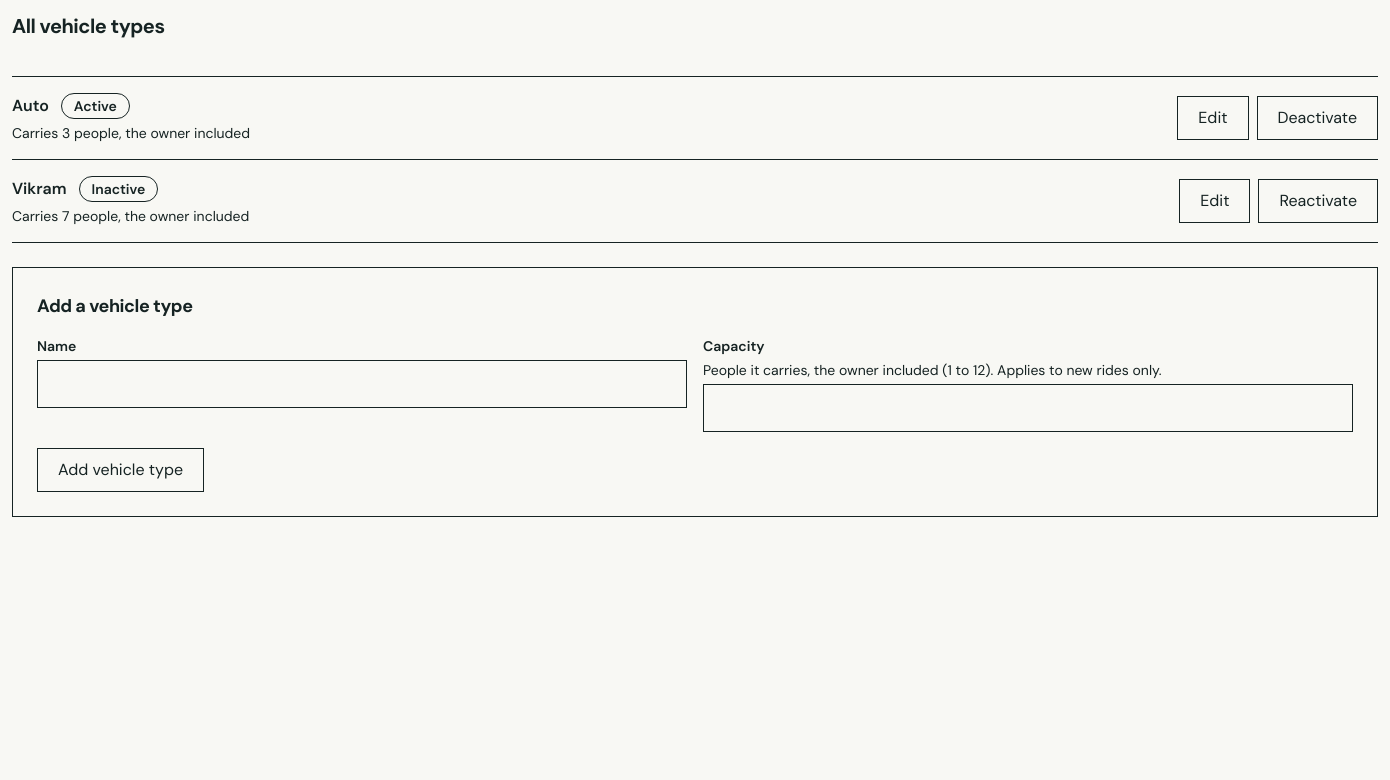
Scenario: VehicleTypesEditor (OA-FR-01 to 03, CS455-51) › keeps the admin's input on a conflict, shows the other change, and saves over it on purpose
Click the button with aria-label "Edit Auto" at {"x": 1213, "y": 118}, box x1=1177 y1=96 x2=1248 y2=140
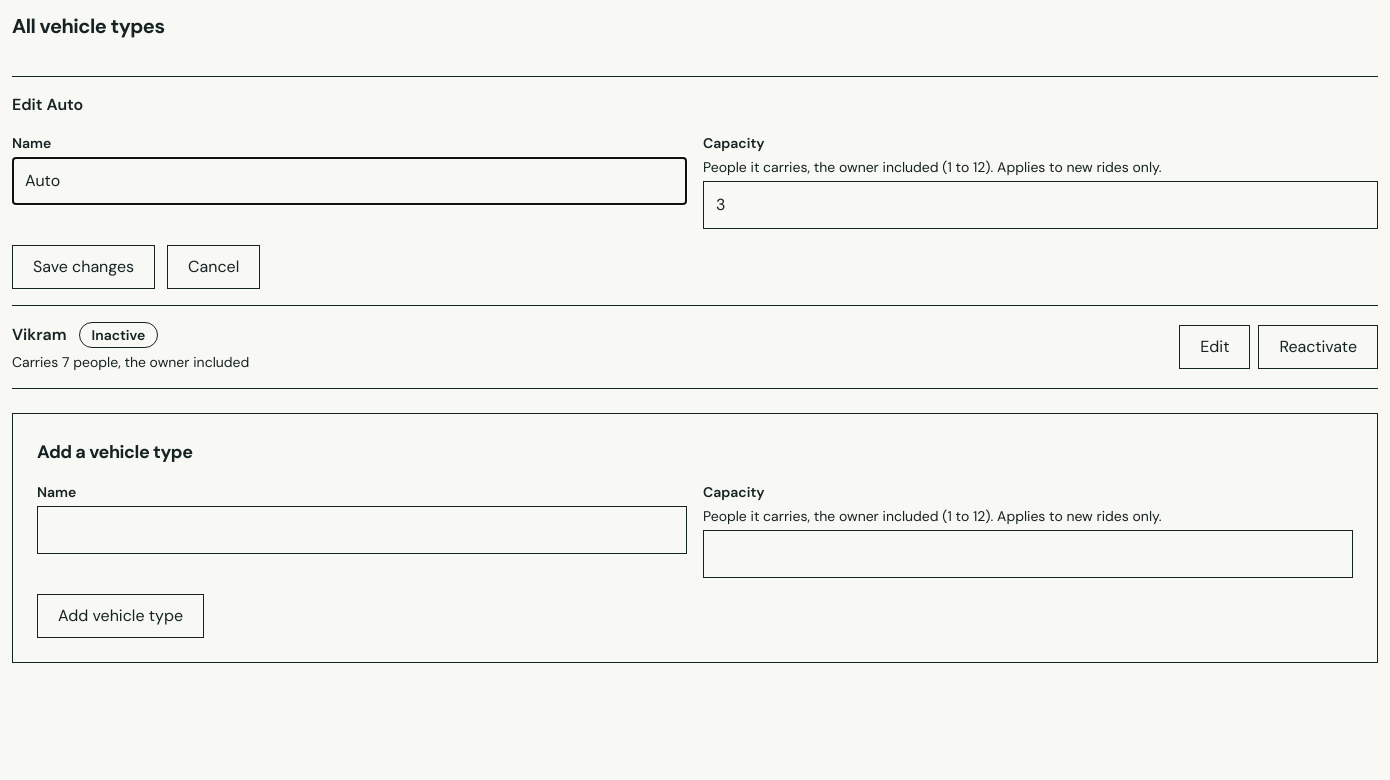
Replace the text in the field labelled "Name" below "Auto" with "Auto rickshaw" at {"x": 350, "y": 181}, box x1=12 y1=157 x2=687 y2=205
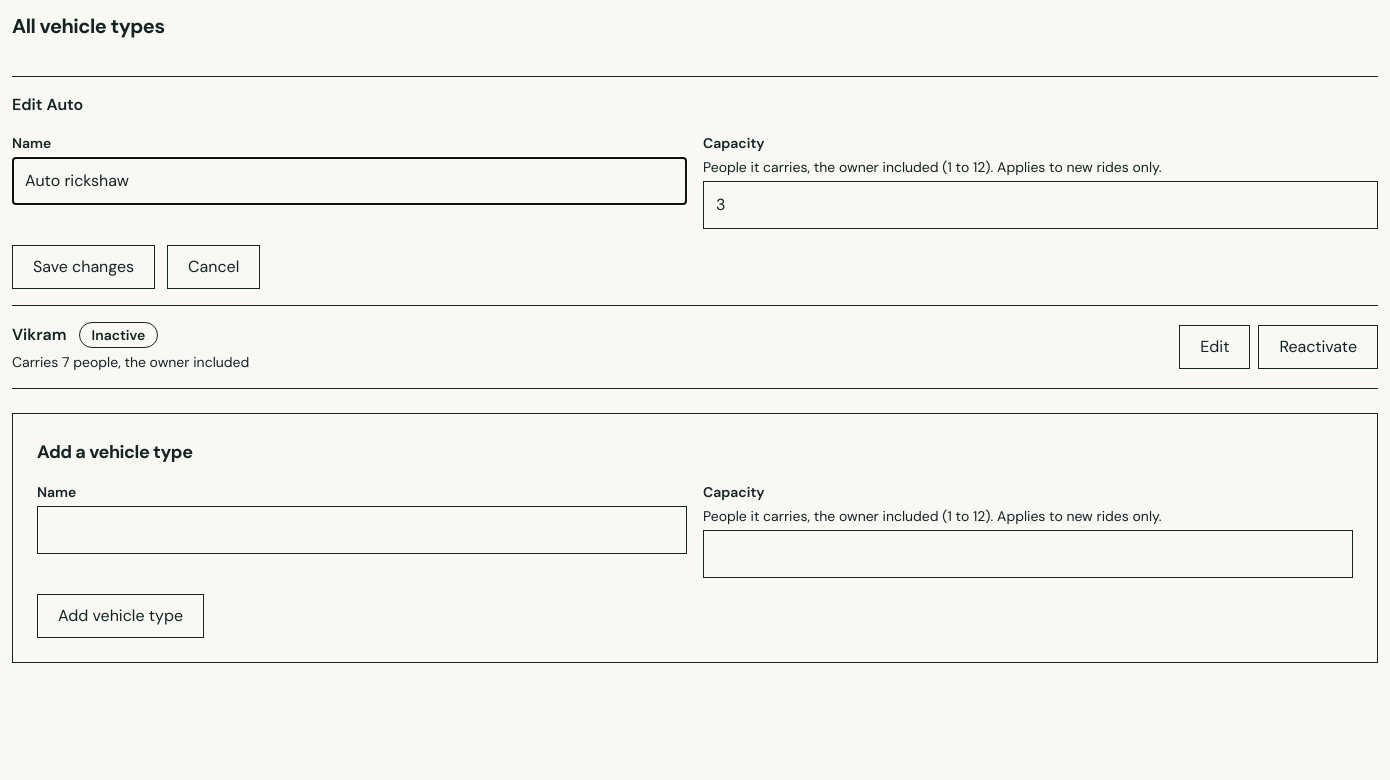
Click the button "Save changes" at {"x": 84, "y": 267}, box x1=12 y1=245 x2=155 y2=289
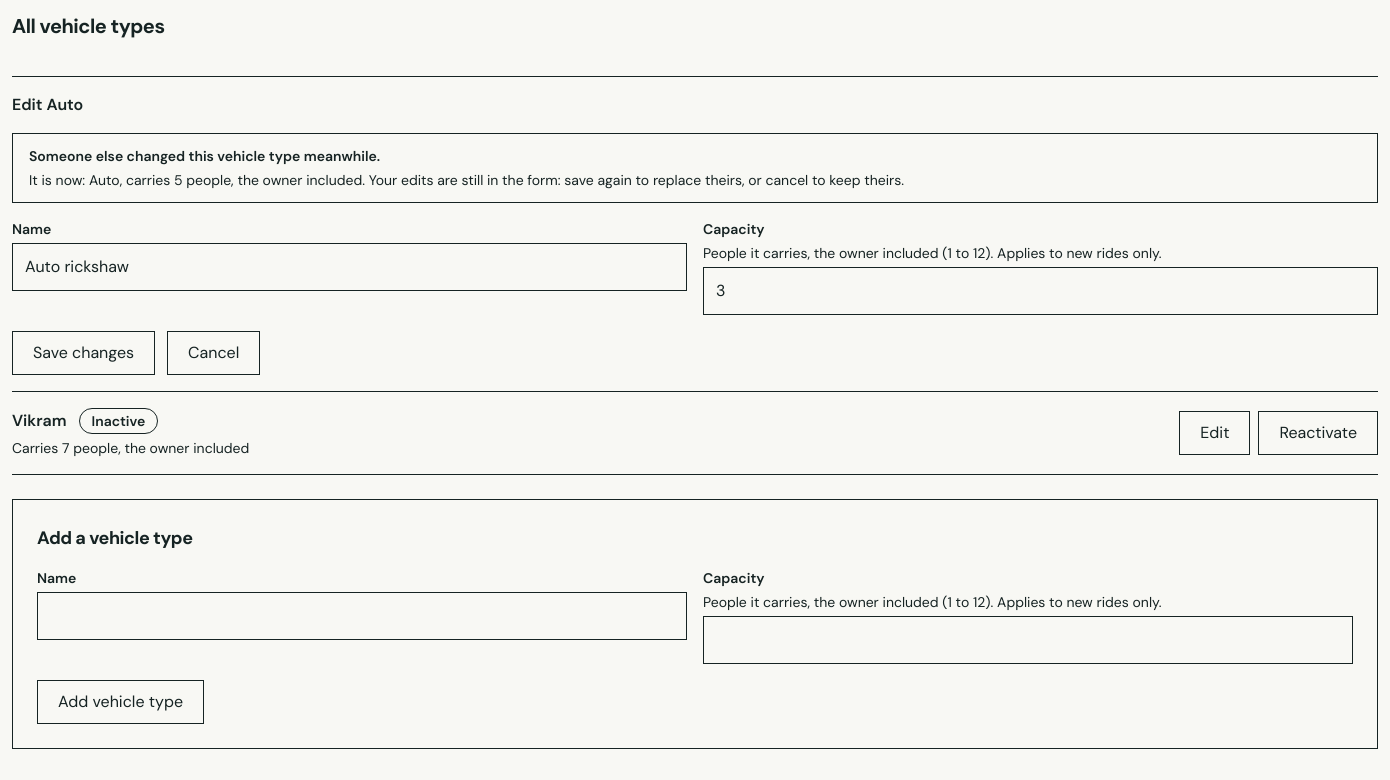
Check: the message that starts with "Someone else changed this" shows "Someone else changed this vehicle type meanwhile.", box x1=12 y1=133 x2=1378 y2=203
Check: the message that starts with "Someone else changed this" shows "It is now: Auto, carries 5 people, the owner included.", box x1=12 y1=133 x2=1378 y2=203
Click the button "Save changes" at {"x": 84, "y": 353}, box x1=12 y1=331 x2=155 y2=375
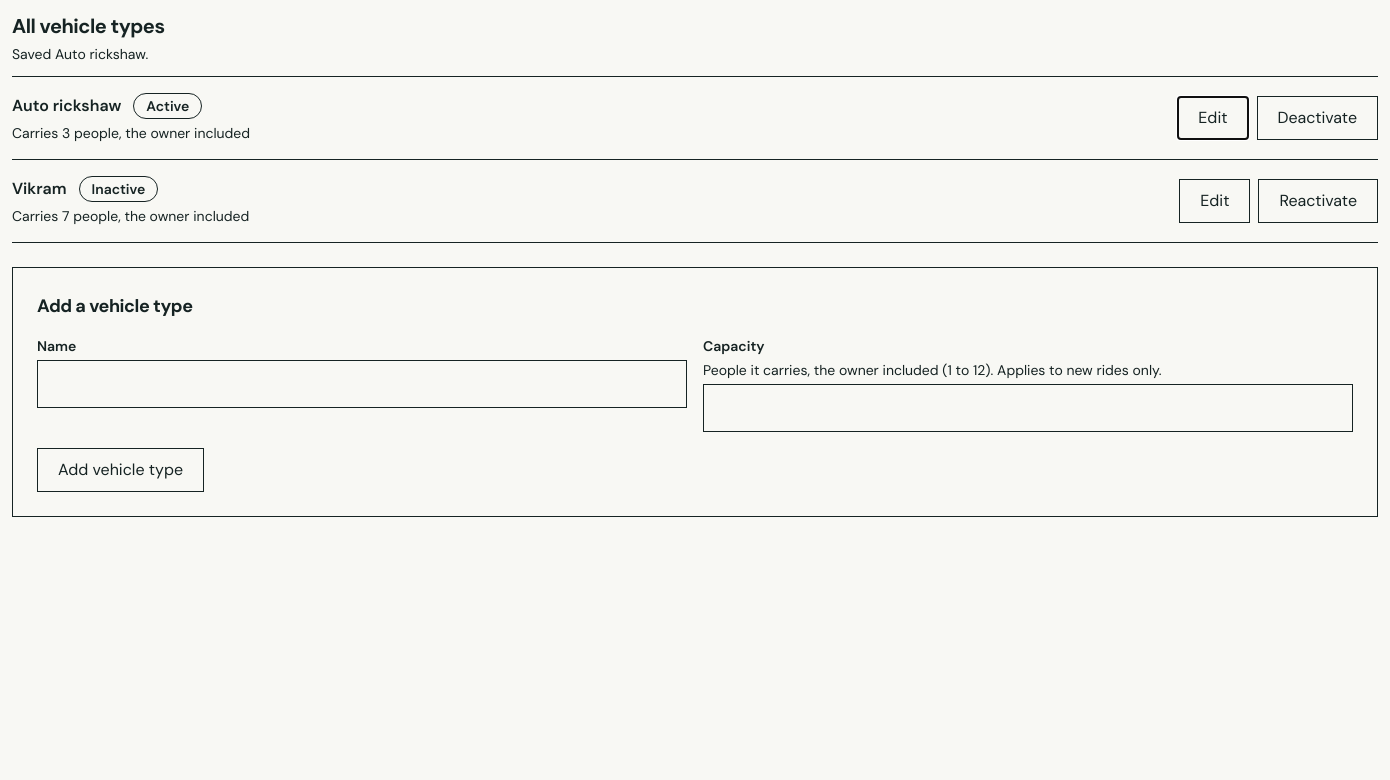
Check: the text "Auto rickshaw" is shown, box x1=12 y1=94 x2=121 y2=118
